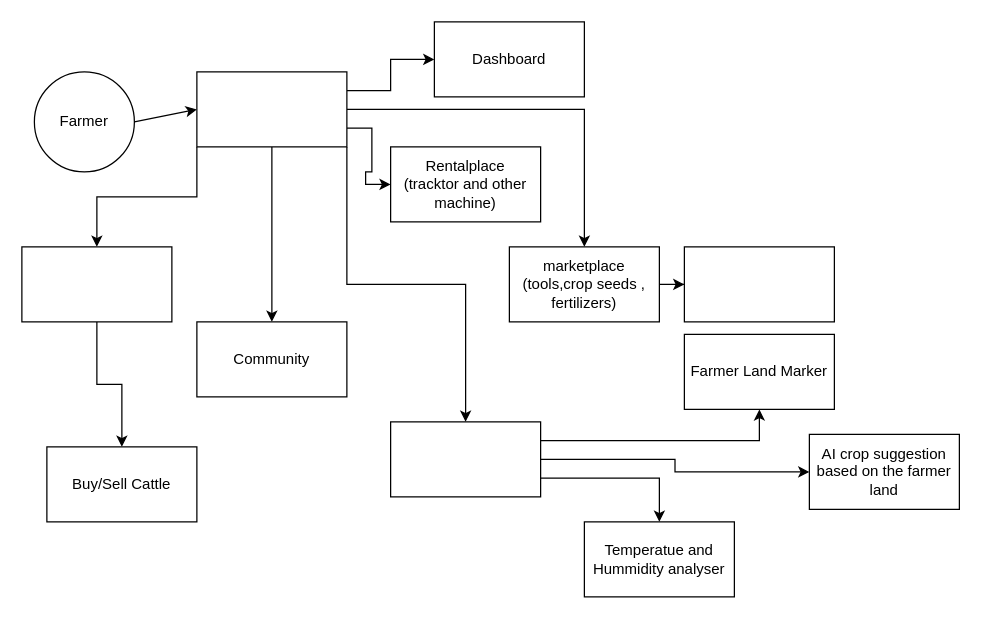
This 981x619 diagram has some shape labels left out. The shapes that lost their labels are listed below. From the top down, each one's centre as x and y in pixels, then its label:
At (x=271, y=109): "Farmertopia".
At (x=96, y=284): "CattlePlace".
At (x=758, y=284): "Buy/Sell".
At (x=465, y=459): "Map".
